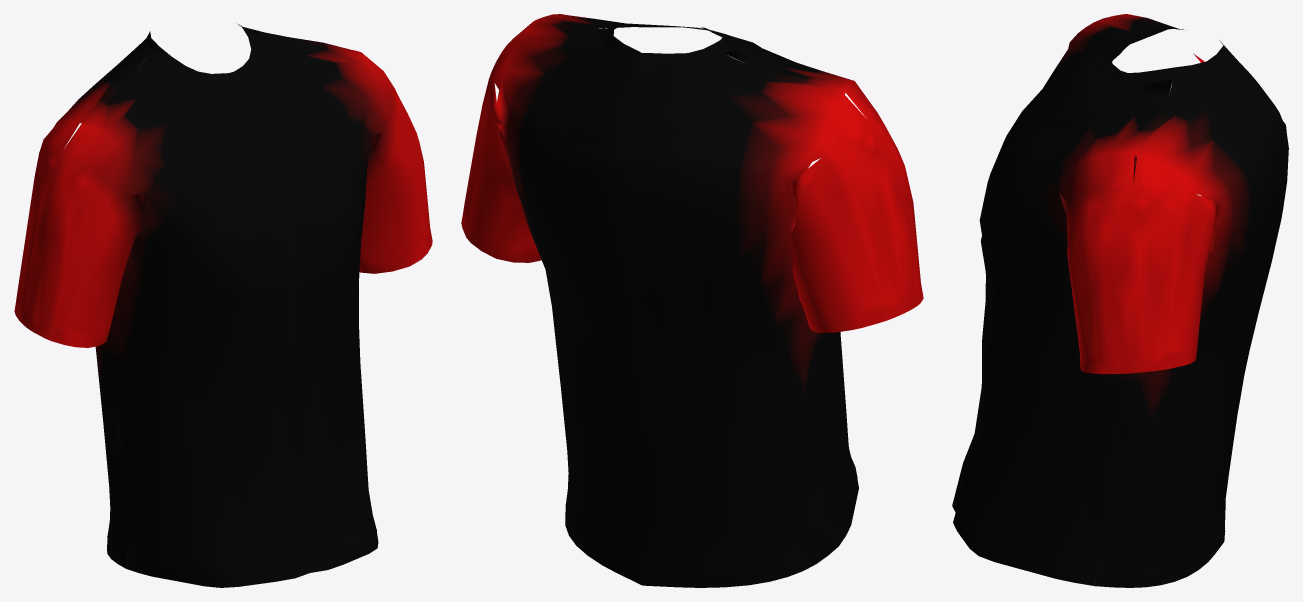
Rendered from tshirt.glb.
The picture shows the model from 3 angles, left to right: view 1: azimuth 30°, elevation 25°; view 2: azimuth 150°, elevation 25°; view 3: azimuth 270°, elevation 25°; orthographic projection. The views are drawn at different scales.
Visible parts, largest first — view 1: ShirtExport; view 2: ShirtExport; view 3: ShirtExport.
Boxes of the visible parts, x1,y1,x2,y2 form: ShirtExport: [14, 24, 432, 587]; ShirtExport: [461, 14, 923, 587]; ShirtExport: [952, 14, 1288, 587].
Size of the model in its own units: 0.5102 by 0.5938 by 0.3641.
